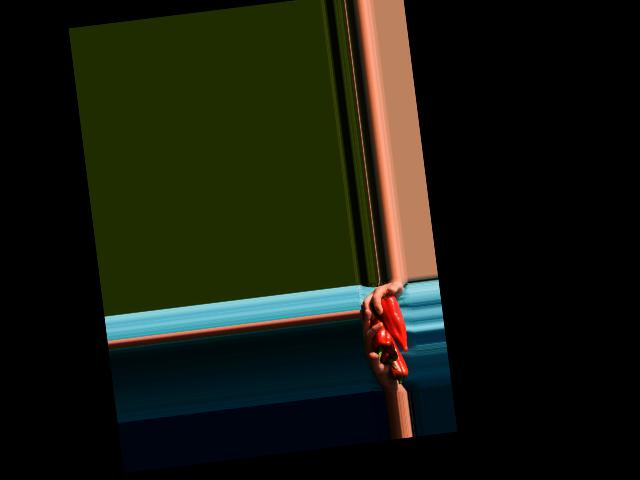bell_pepper: (385, 346, 409, 385)
